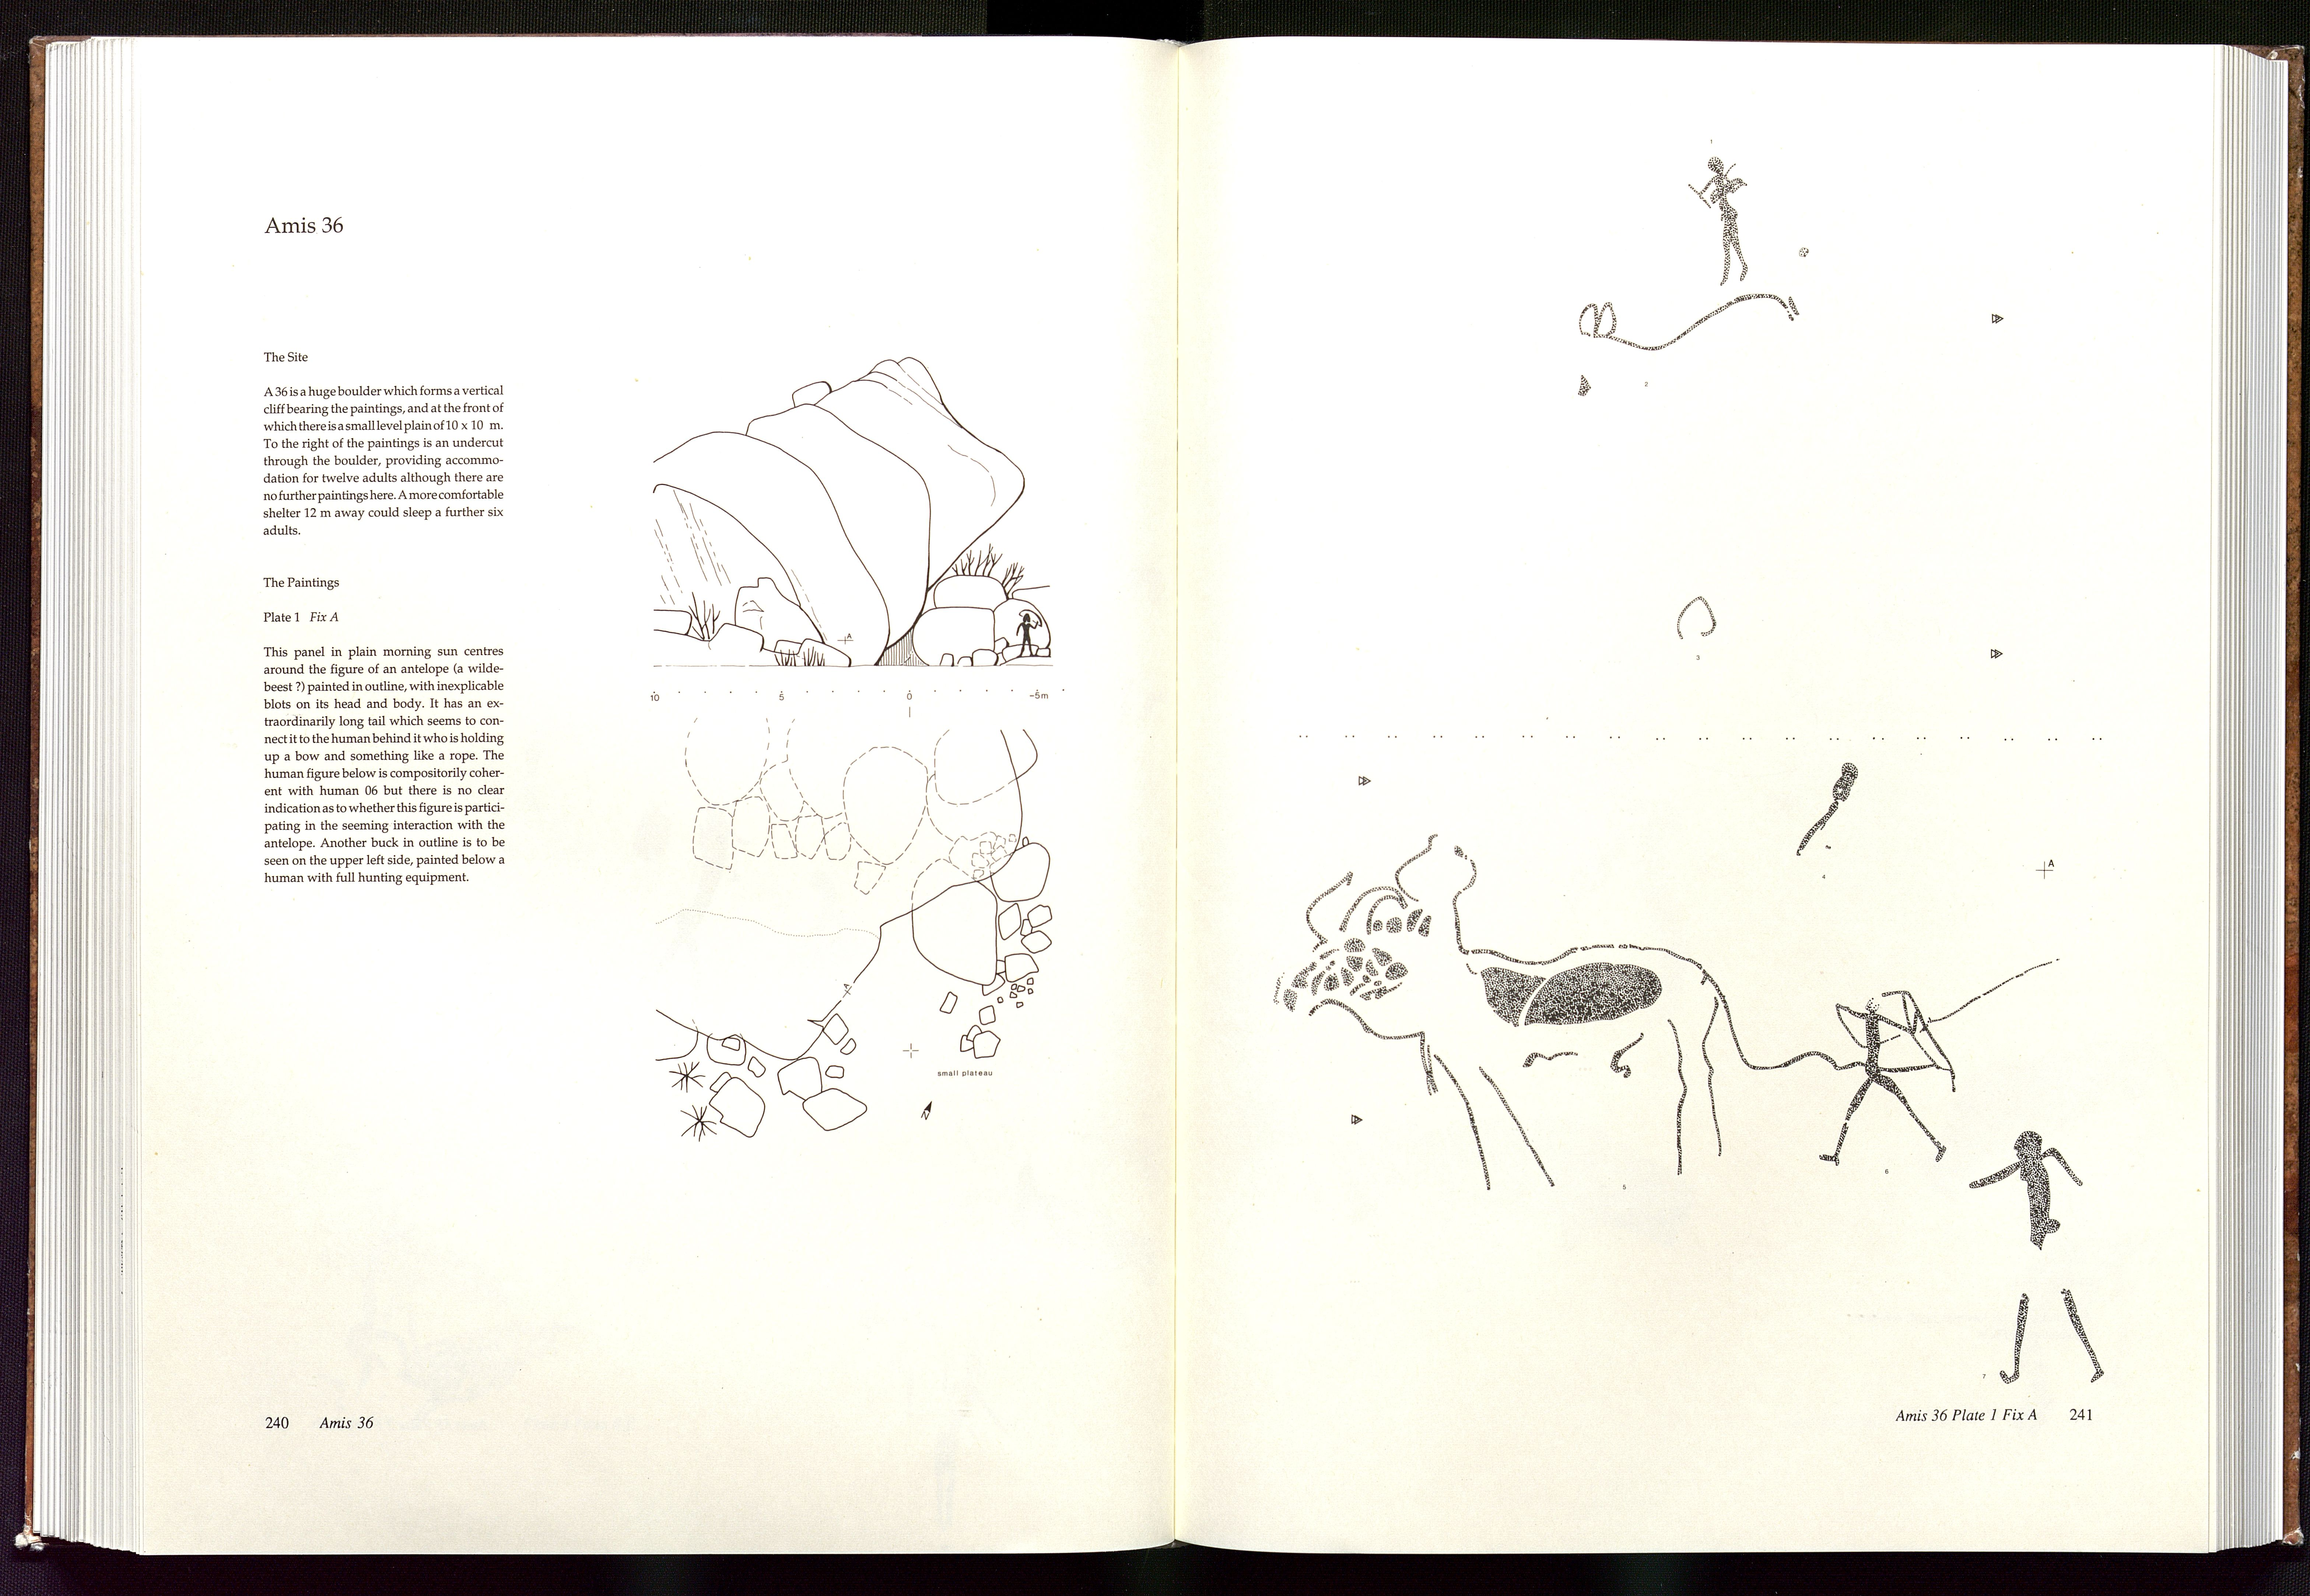animal: (1262, 834, 1831, 1185)
human: (1966, 1126, 2118, 1398), (1822, 993, 1954, 1197), (1691, 143, 1767, 293)
